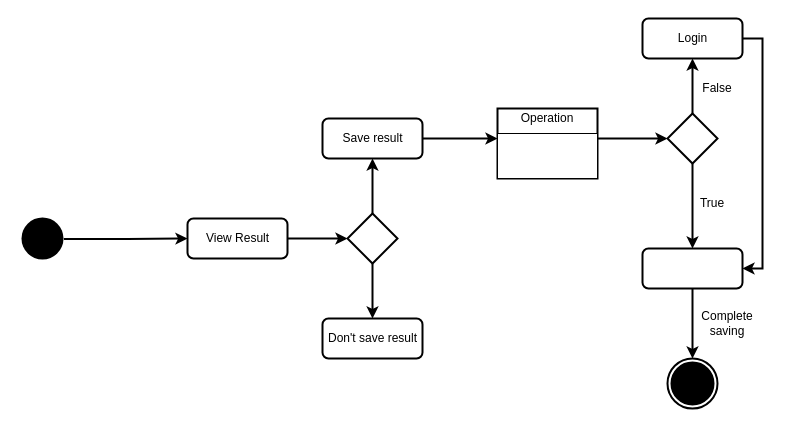
Image size: 788x426. Some labels were removed from this diagram. Each missing label, with the centre of its shape:
"do: LoginCheck" belongs at (547,155).
"Save" belongs at (692,268).
